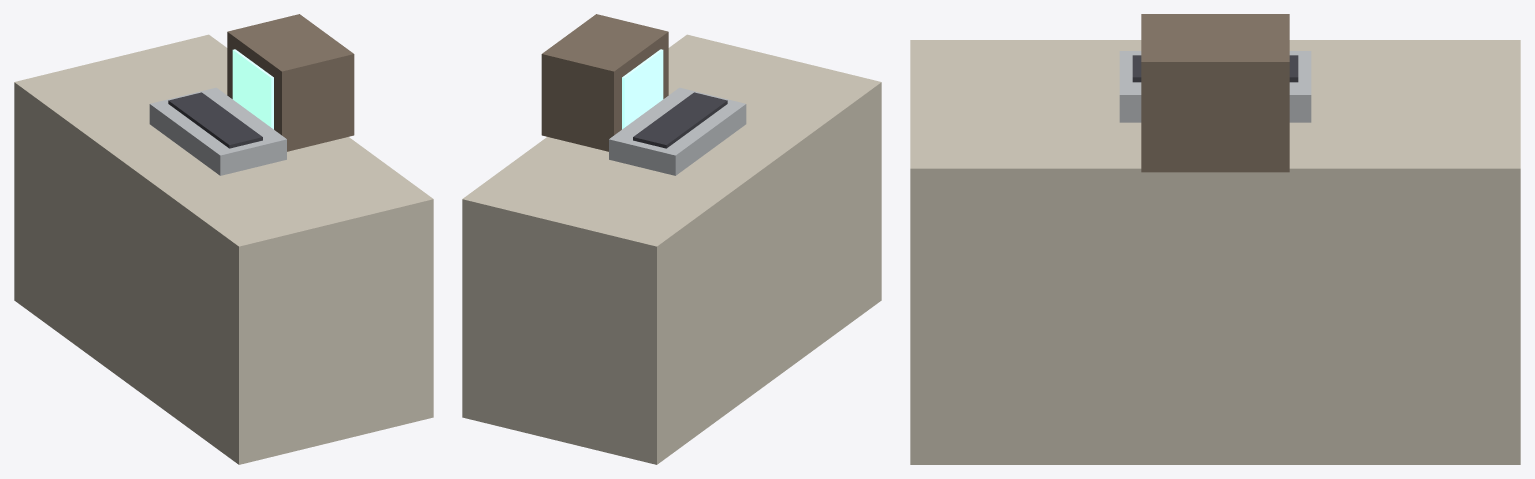
Rendered from computer_display_1.glb.
The picture shows the model from 3 angles, left to right: view 1: azimuth 30°, elevation 25°; view 2: azimuth 150°, elevation 25°; view 3: azimuth 270°, elevation 25°; orthographic projection. The views are drawn at different scales.
Parts seen in each view (by area): view 1: Box1, Box4, Box2, Box3, Box5; view 2: Box1, Box4, Box2, Box3, Box5; view 3: Box1, Box4, Box2.
Boxes of the visible parts, left/top/right/bottom form: Box1: left=14, top=34, right=433, bottom=464; Box4: left=227, top=14, right=354, bottom=151; Box2: left=149, top=87, right=286, bottom=175; Box3: left=168, top=92, right=262, bottom=148; Box5: left=232, top=49, right=273, bottom=129; Box1: left=462, top=34, right=881, bottom=464; Box4: left=541, top=14, right=668, bottom=151; Box2: left=609, top=87, right=746, bottom=175; Box3: left=633, top=92, right=727, bottom=148; Box5: left=622, top=49, right=663, bottom=129; Box1: left=910, top=40, right=1520, bottom=464; Box4: left=1141, top=14, right=1289, bottom=172; Box2: left=1119, top=51, right=1311, bottom=122.
Bounding box in the file's own units: 0.72 × 1.03 × 1.4.
